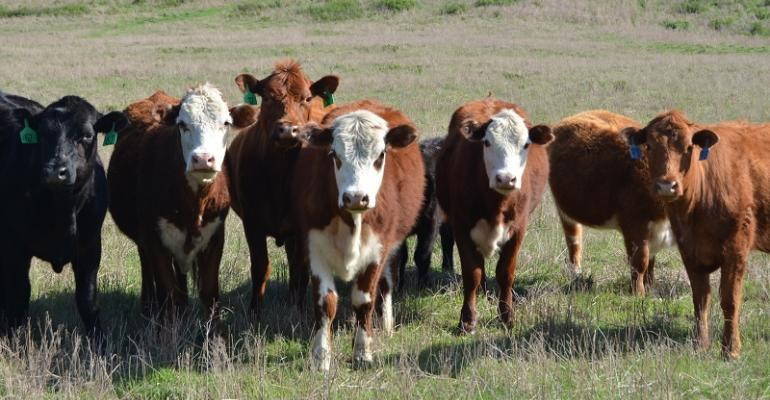cow: (0, 67, 770, 373)
